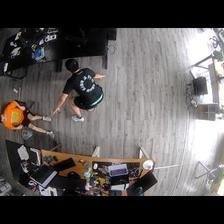fall: (54, 59, 108, 123)
normal: (1, 100, 53, 139)
